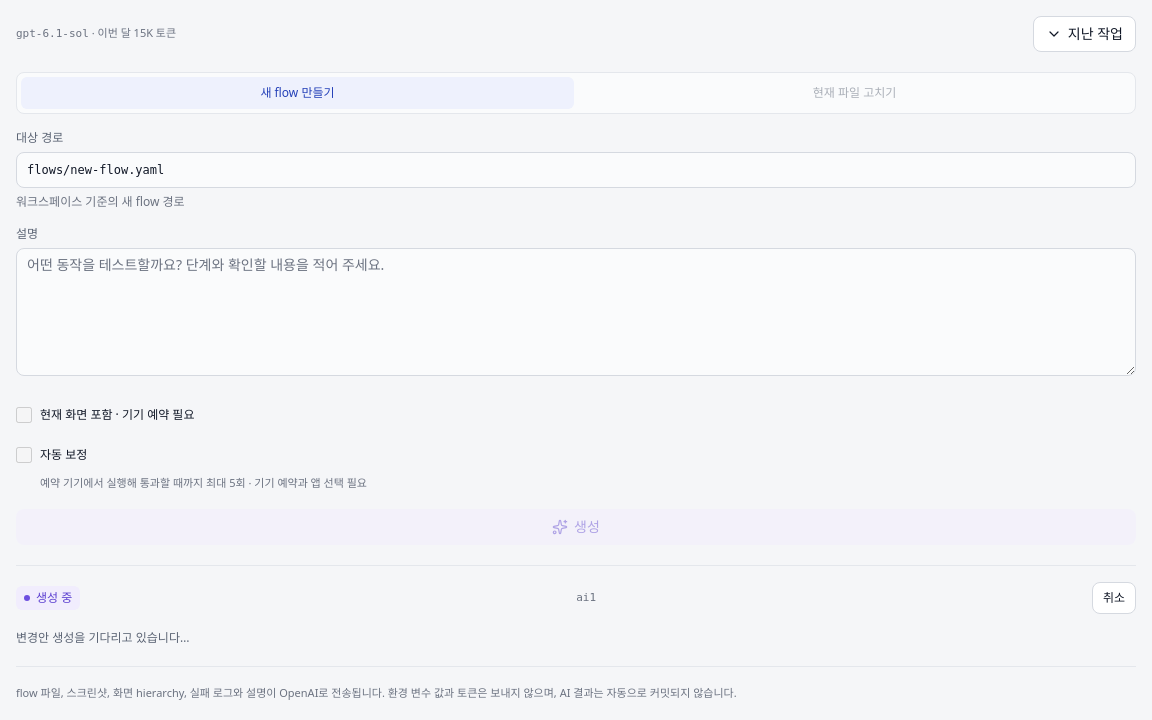
keeps cancellation feedback after acknowledgement until the job becomes failed
Later steps or results of the test are not shown.
Click the button "취소": (1114, 598) left=1092, top=582, right=1136, bottom=614
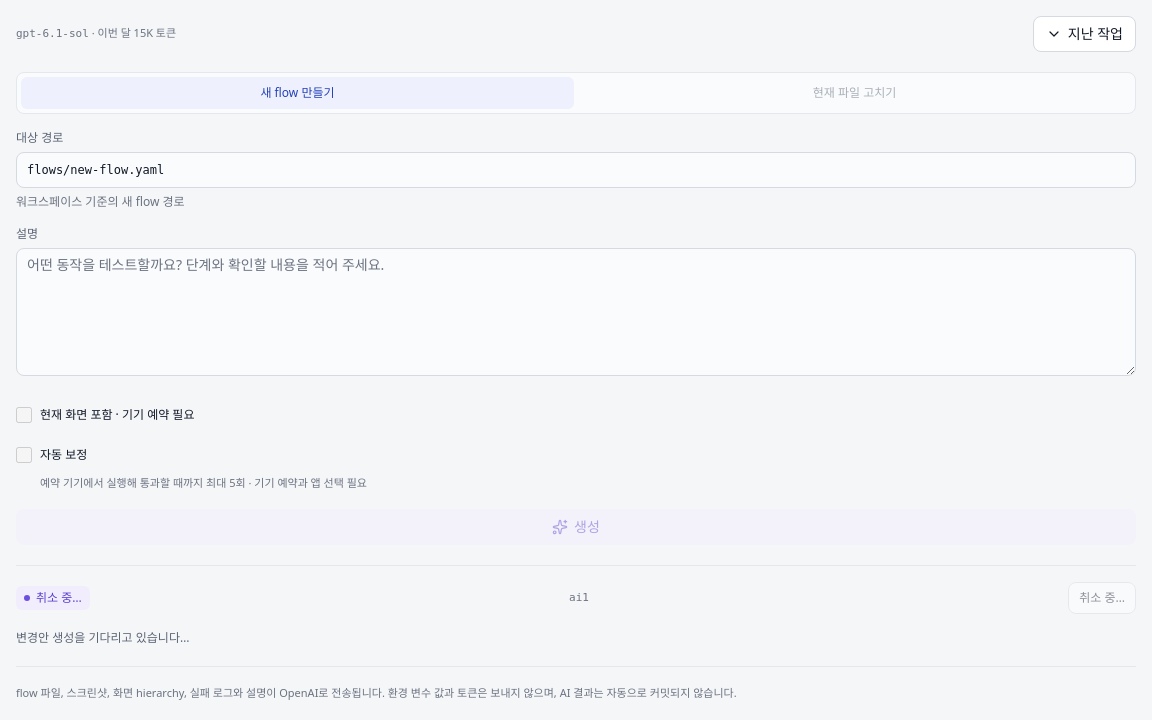
Check: the text "생성 중" is gone
Check: the button "취소 중…" is disabled
Check: the button "취소 중…" is shown
Click the button "취소 중…": (1102, 598) left=1068, top=582, right=1136, bottom=614
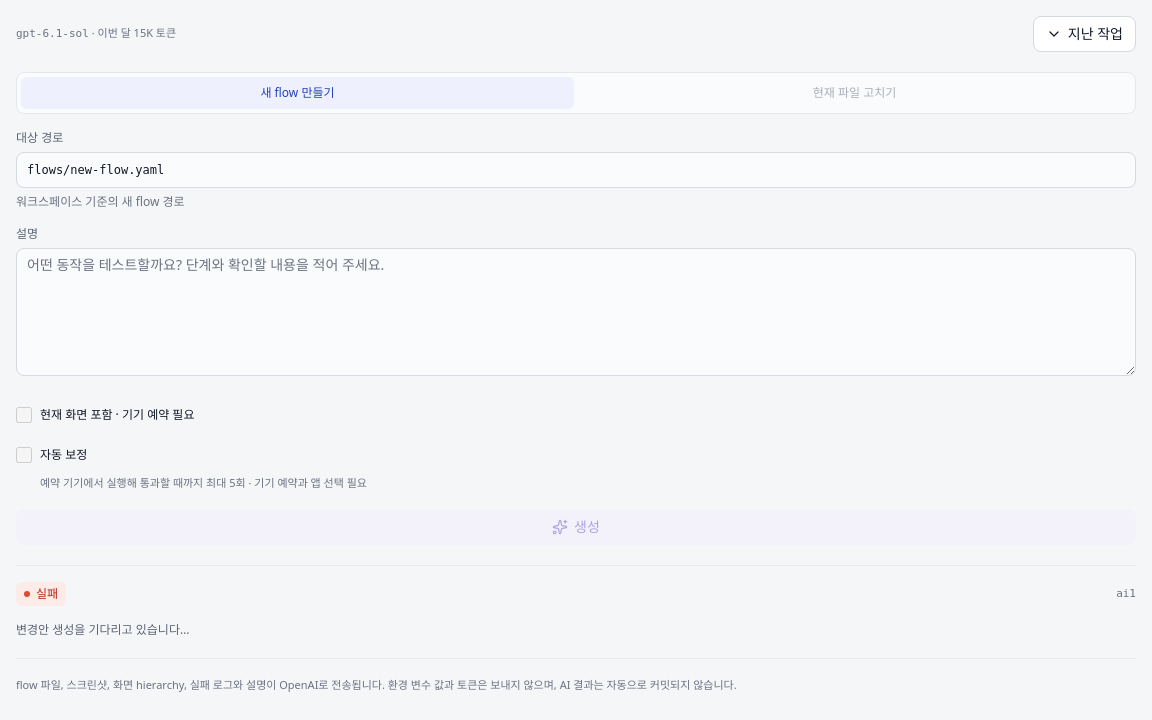
Check: the text "실패" is shown, box left=16, top=582, right=66, bottom=606
Check: the button "취소" is gone
Check: the text "취소 중…" is gone
